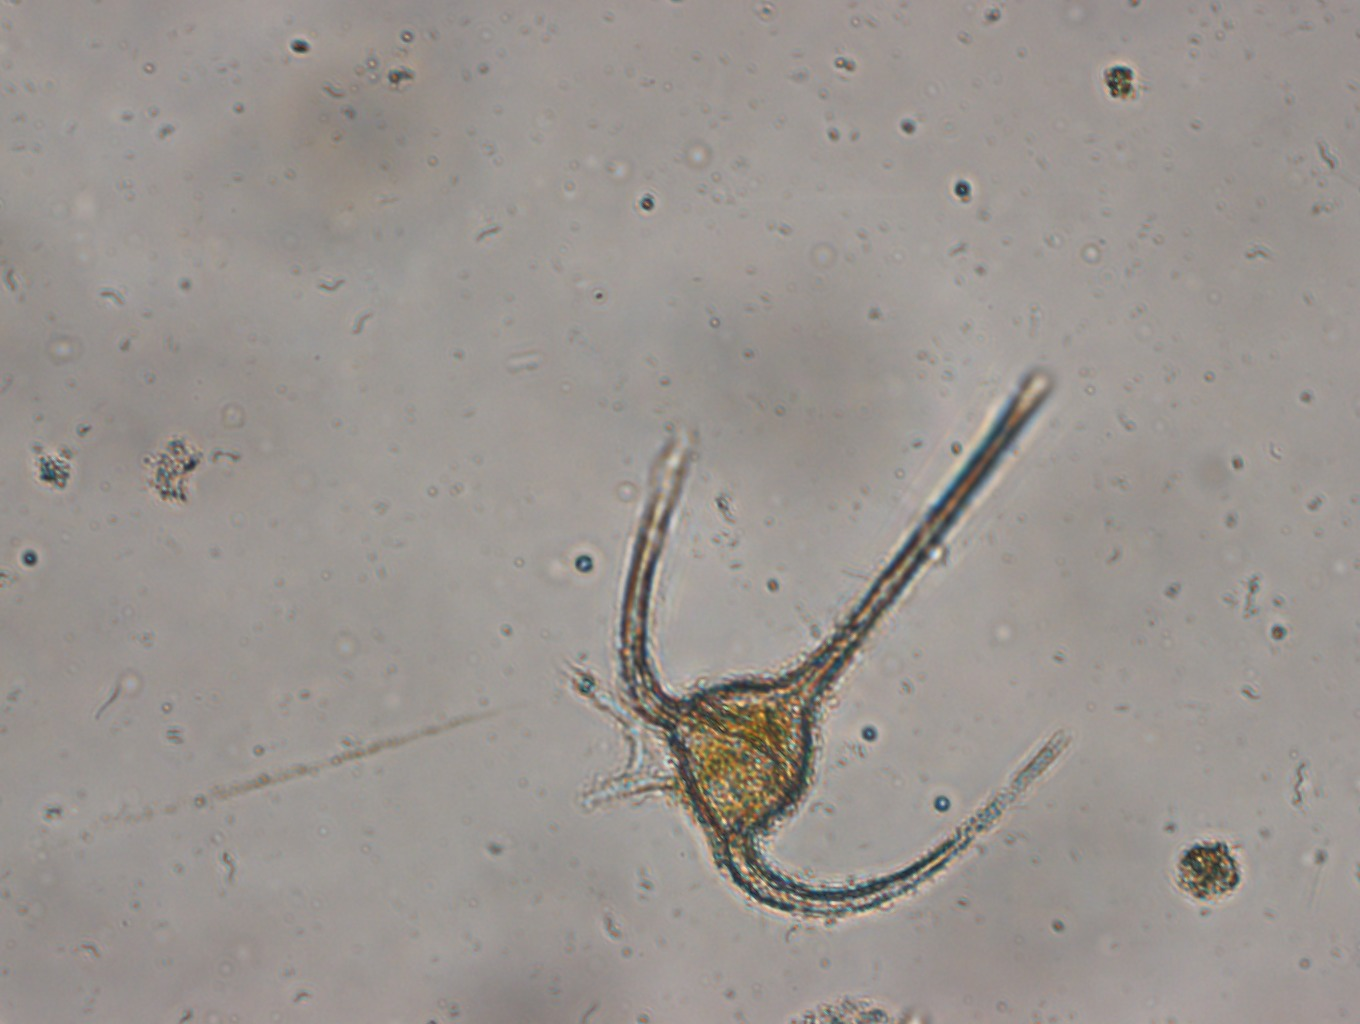ceratium trichoceros: (613, 392, 1086, 925)
